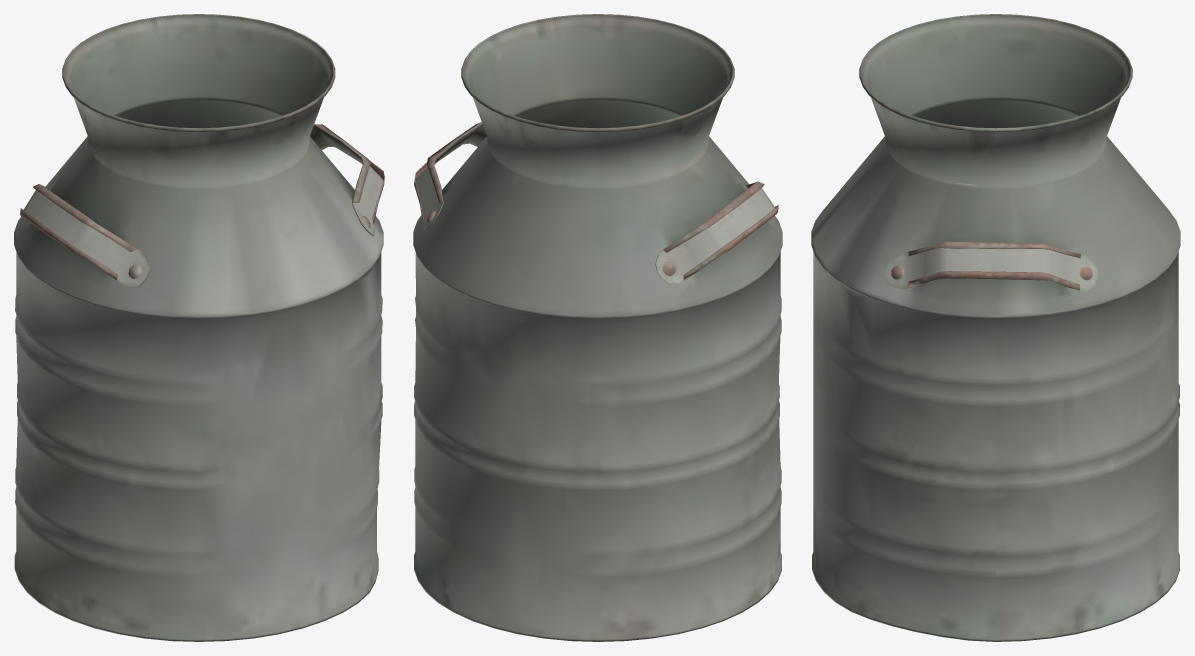
File: metal_jug.glb
3 renders of one model, left to right at view 1: azimuth 30°, elevation 25°; view 2: azimuth 150°, elevation 25°; view 3: azimuth 270°, elevation 25°, orthographic.
Parts seen in each view (by area): view 1: metal_jug; view 2: metal_jug; view 3: metal_jug.
Boxes of the visible parts, x1=… form: metal_jug: x1=14, y1=14, x2=384, y2=641; metal_jug: x1=413, y1=14, x2=782, y2=641; metal_jug: x1=811, y1=14, x2=1180, y2=641.
Bounding box in the file's own units: 0.1968 × 0.2875 × 0.1955.
1 material, 1 textured.
